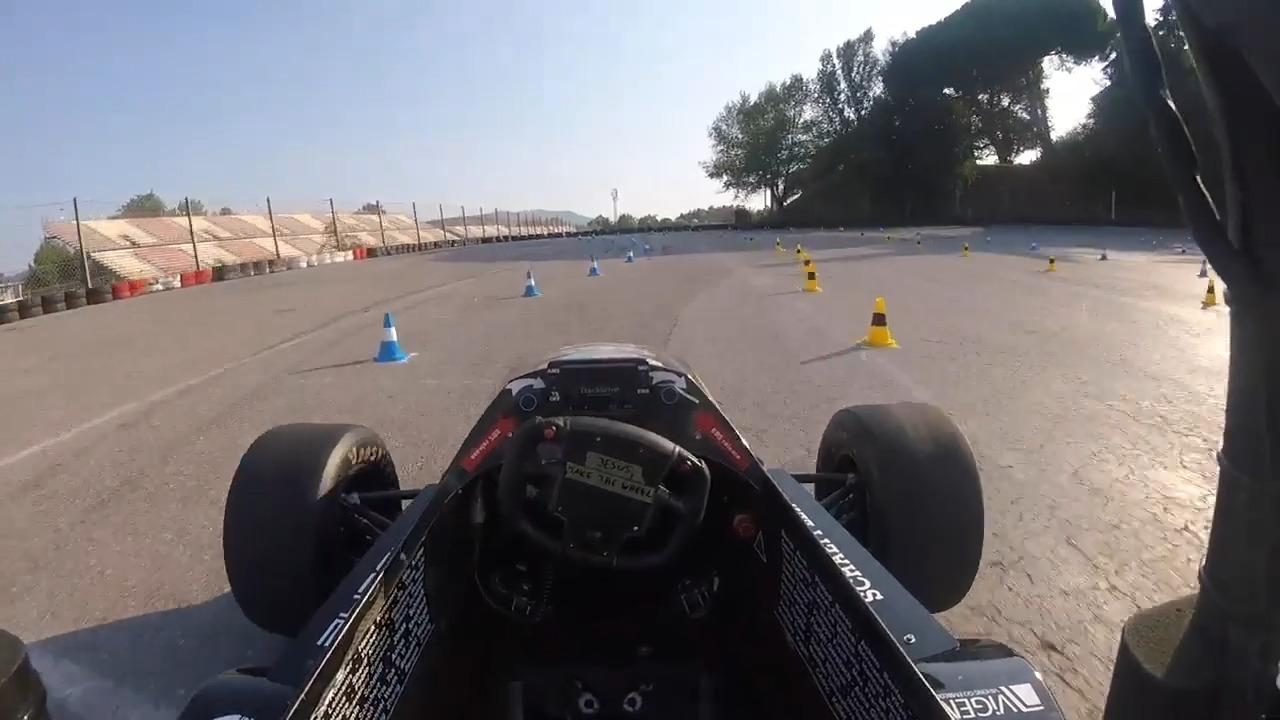blue_cone: (370, 312, 411, 365), (518, 269, 540, 300), (586, 256, 603, 279), (1198, 259, 1210, 277), (625, 247, 636, 266), (1100, 245, 1111, 261)
yellow_cone: (859, 297, 896, 350), (804, 264, 825, 292), (1204, 277, 1220, 305), (801, 254, 813, 274), (793, 242, 806, 259), (1046, 256, 1059, 271), (963, 241, 973, 256), (774, 238, 783, 251)
